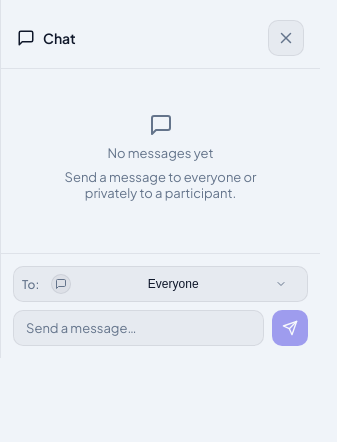
Test: ChatPanel › recipient dropdown › shows '(private)' hint when a recipient is selected
Click the button with aria-label "Select message recipient" at point(173, 284), box [47, 272, 299, 296]
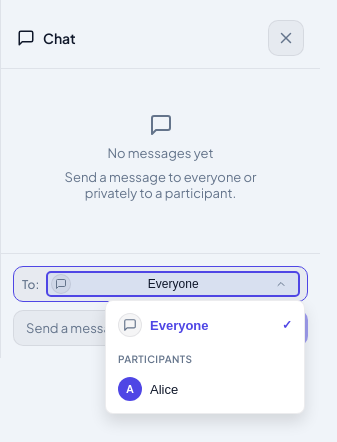
Click the option "A Alice" at point(205, 389), box [106, 369, 304, 409]
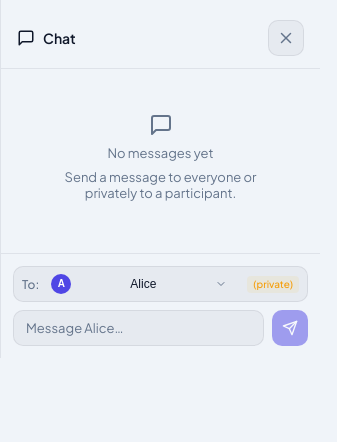
expect the text "(private)" is shown: met, box [247, 276, 299, 292]
